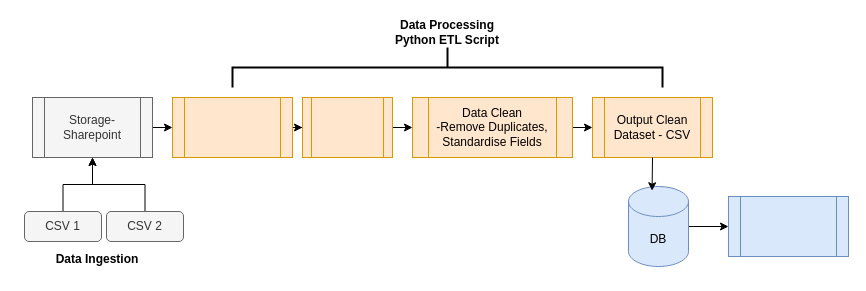
Image size: 866x291. Some labels were removed from this diagram. Here are the shapes that lost their labels. From the top down, the box of each, then its label:
(172, 96, 292, 158): Data Validation (Missing Values, duplicates, formats)
(302, 96, 392, 158): Log Errors
(728, 196, 848, 256): Power Bi Dashboard
